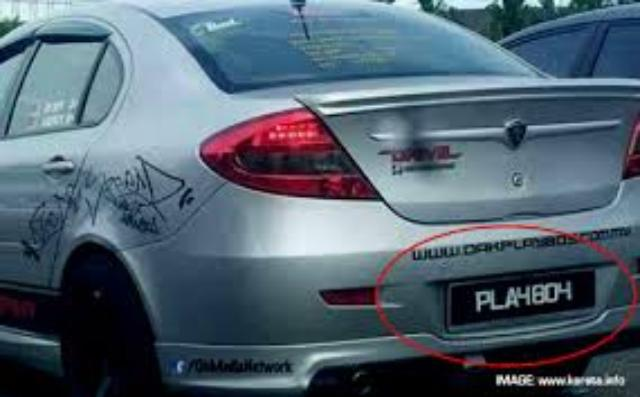License_Plate: (445, 269, 602, 337)
car: (1, 6, 640, 392)
